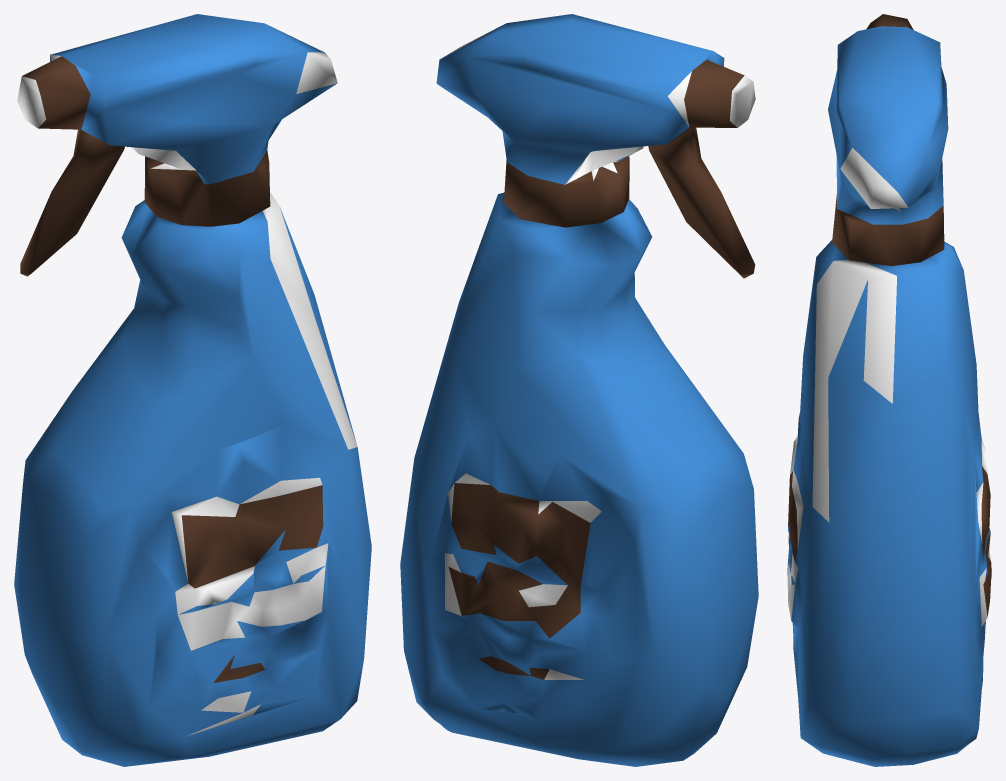
File: SM_prop_spray_blue.glb
The picture shows the model from 3 angles, left to right: view 1: azimuth 30°, elevation 25°; view 2: azimuth 150°, elevation 25°; view 3: azimuth 270°, elevation 25°; orthographic projection. The views are drawn at different scales.
Parts seen in each view (by area): view 1: SM_prop_spray_blue; view 2: SM_prop_spray_blue; view 3: SM_prop_spray_blue.
Boxes of the visible parts, x1=… form: SM_prop_spray_blue: x1=14, y1=14, x2=371, y2=766; SM_prop_spray_blue: x1=400, y1=14, x2=758, y2=766; SM_prop_spray_blue: x1=787, y1=14, x2=991, y2=766.
Bounding box in the file's own units: 0.1493 × 0.3 × 0.0879.
Materials: 1 (1 with a texture image).
